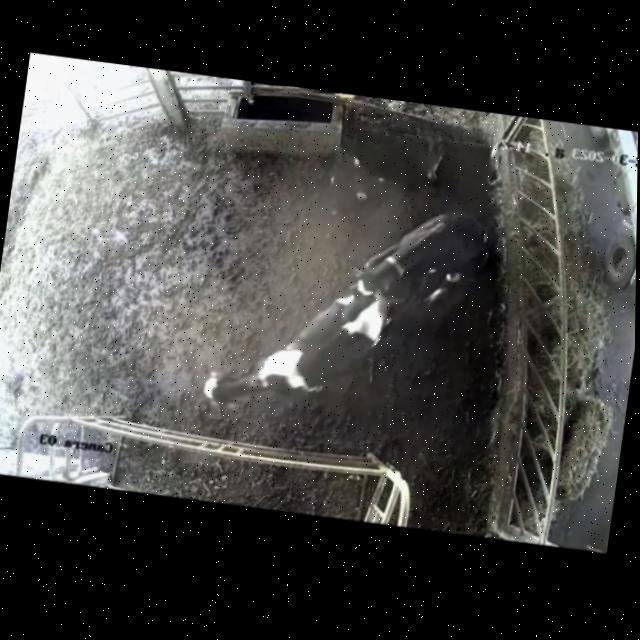ride: (315, 183, 503, 357)
stand: (180, 259, 417, 441)
